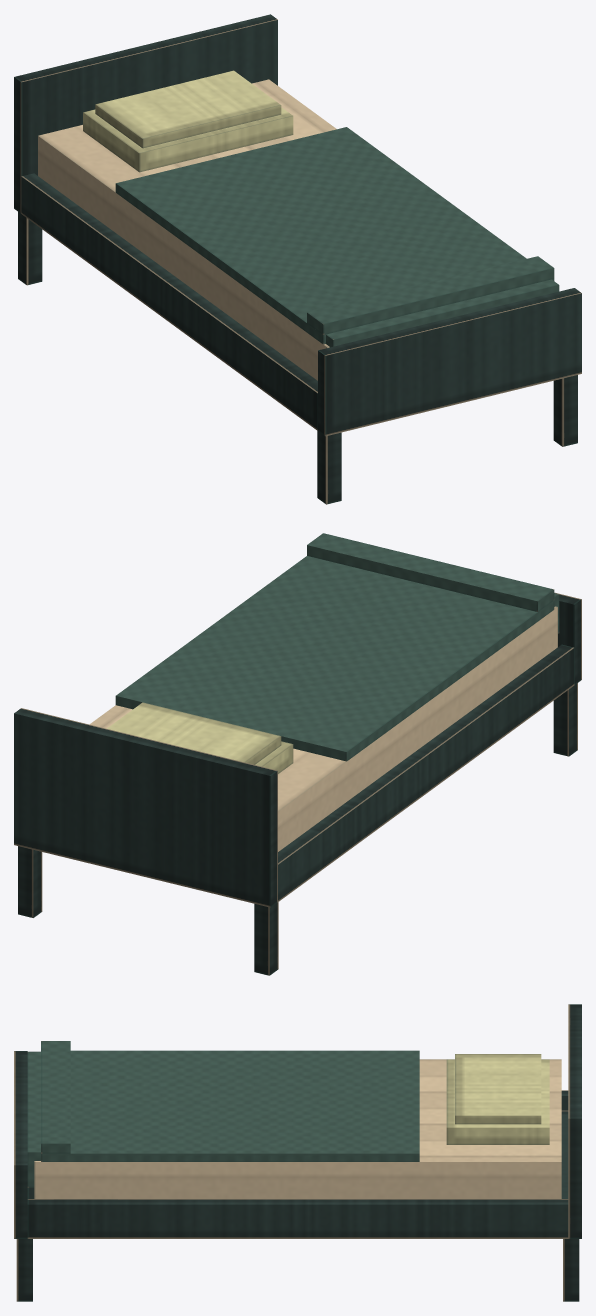
Rendered from SM_LabProp_Bed_Dorm_100x210x80.fbx.
The picture shows the model from 3 angles, top to bottom: view 1: azimuth 30°, elevation 25°; view 2: azimuth 150°, elevation 25°; view 3: azimuth 270°, elevation 25°; orthographic projection. The views are drawn at different scales.
Parts seen in each view (by area): view 1: SM_LabProp_Bed_Dorm_100x210x80.001; view 2: SM_LabProp_Bed_Dorm_100x210x80.001; view 3: SM_LabProp_Bed_Dorm_100x210x80.001.
Boxes of the visible parts, x1,y1,x2,y2 form: SM_LabProp_Bed_Dorm_100x210x80.001: [14, 14, 581, 504]; SM_LabProp_Bed_Dorm_100x210x80.001: [14, 533, 581, 975]; SM_LabProp_Bed_Dorm_100x210x80.001: [14, 1004, 581, 1301].
Size of the model in its own units: 1 by 0.75 by 2.1.
